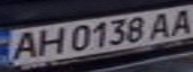0: (66, 21, 93, 52)
1: (90, 19, 112, 49)
3: (106, 16, 130, 47)
8: (124, 14, 151, 43)
A: (3, 29, 42, 61), (145, 10, 178, 39), (166, 6, 193, 36)
H: (30, 25, 66, 56)
